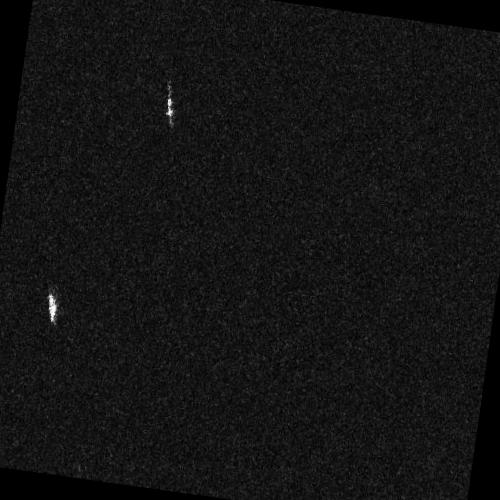ship: (46, 291, 58, 324), (165, 91, 174, 124)
